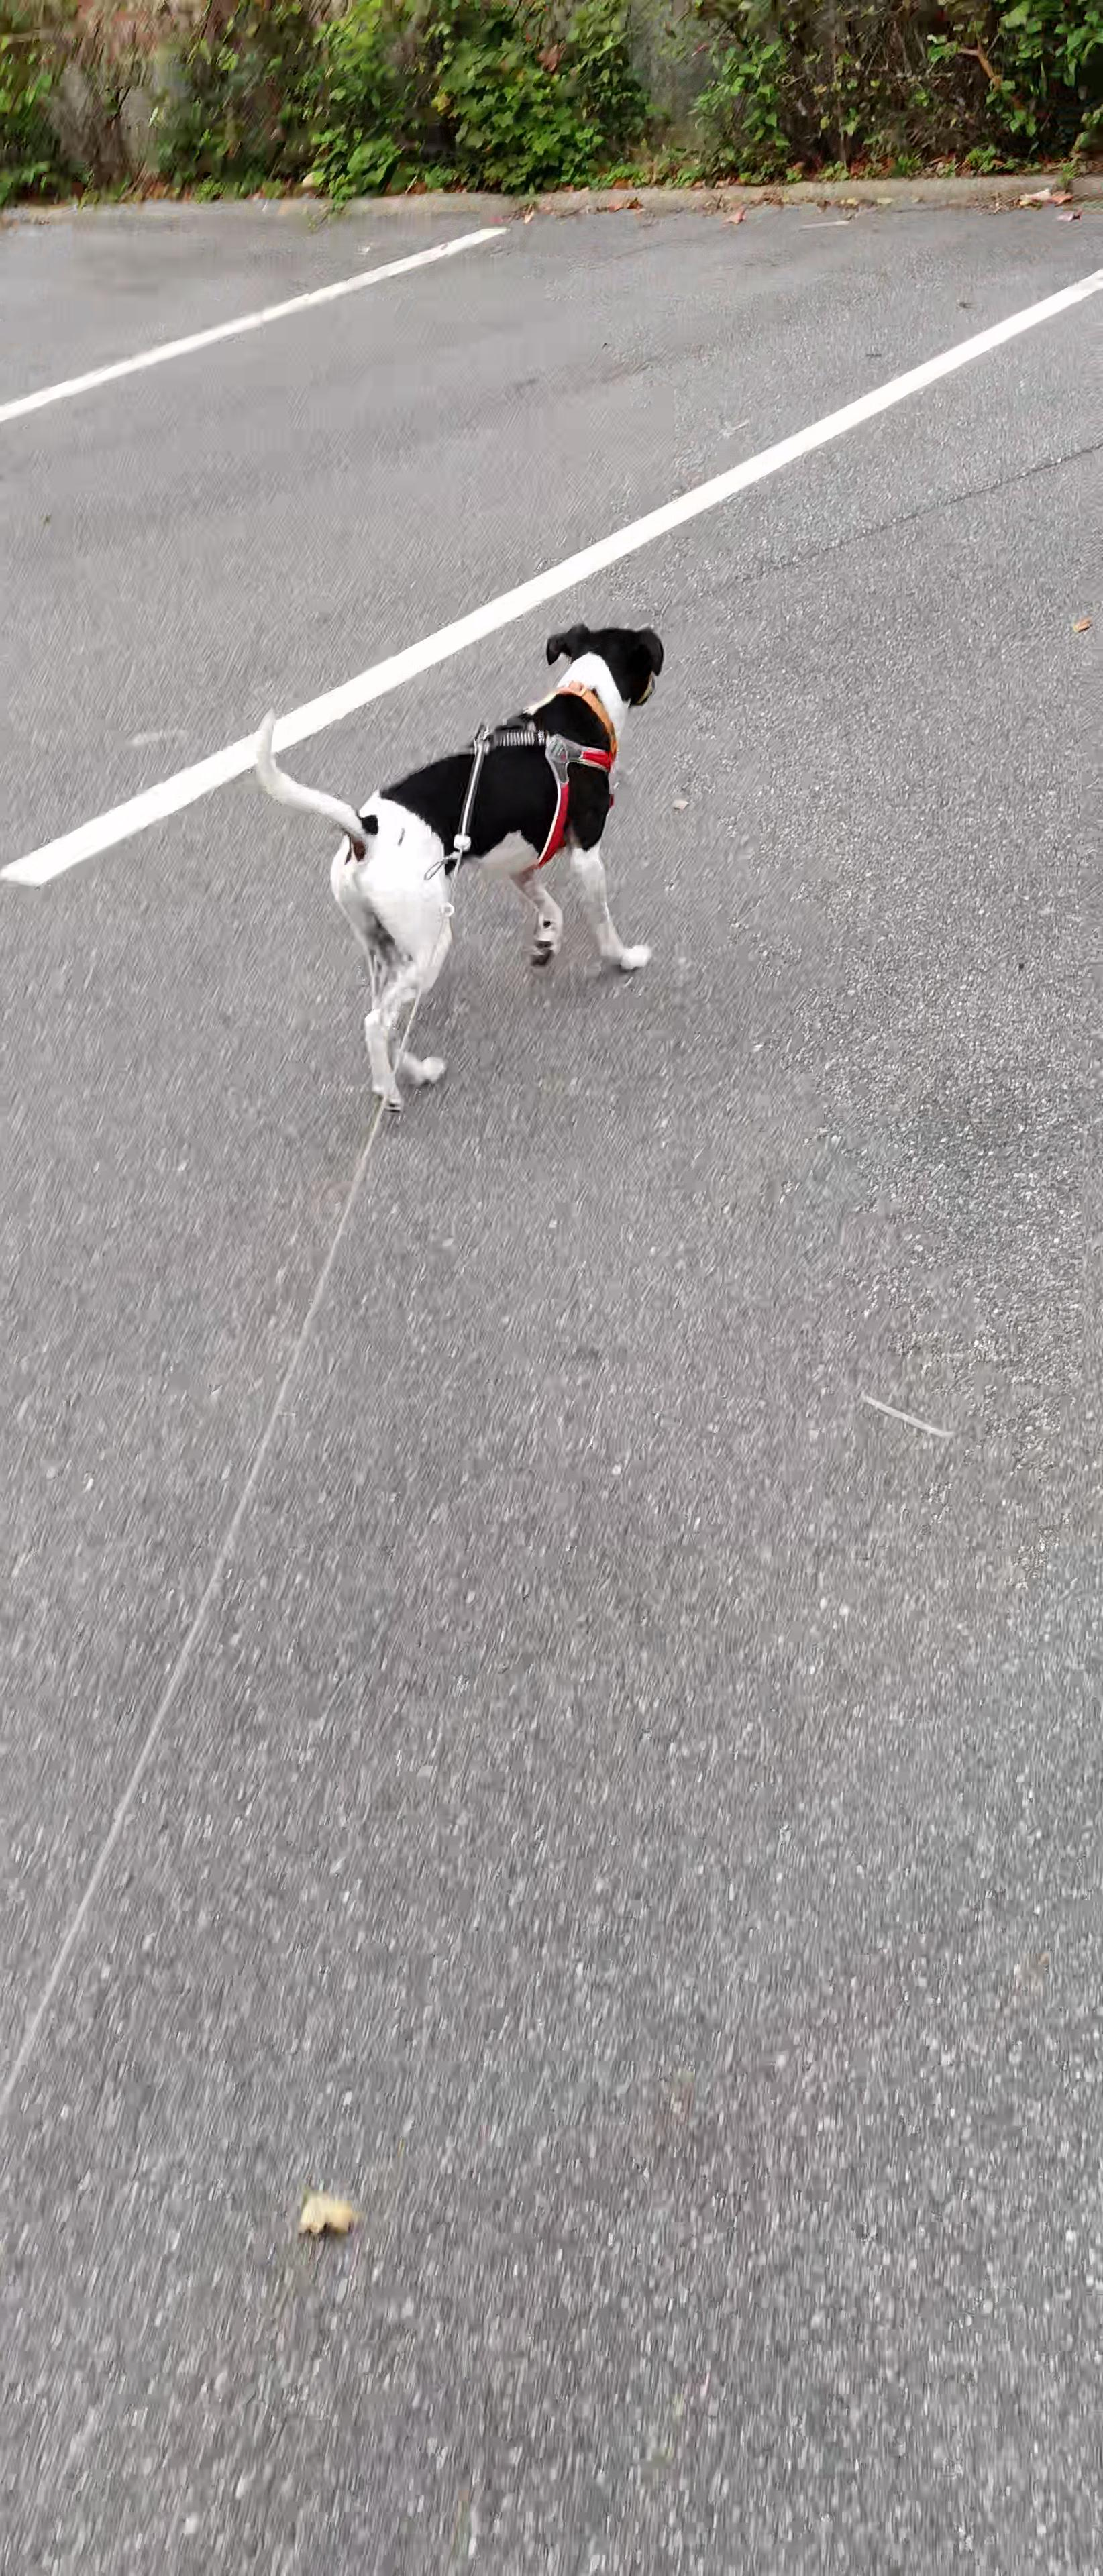Dog: (247, 608, 712, 1130)
